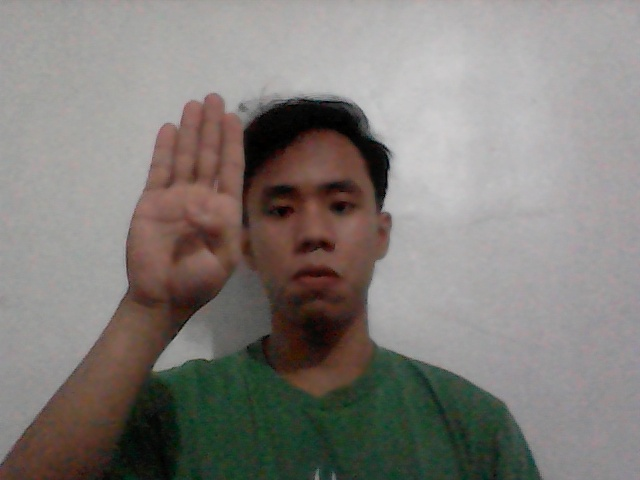B: (118, 86, 270, 325)
